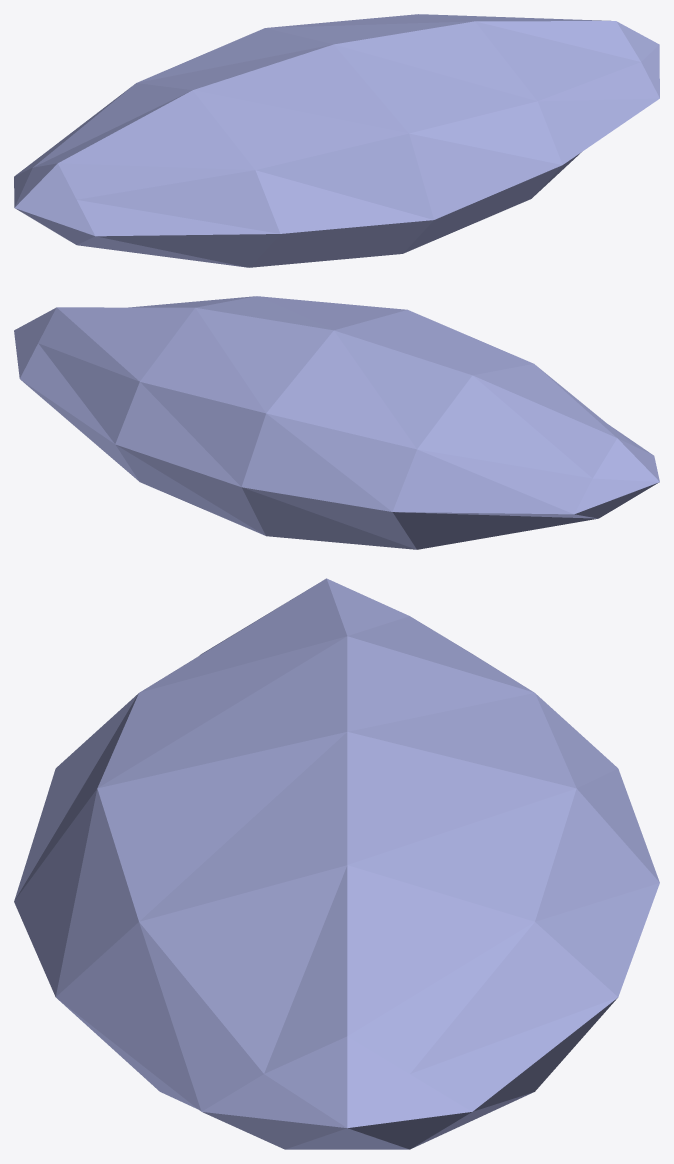
Rendered from model_3370_spotanim.obj.
3 renders of one model, top to bottom at view 1: azimuth 30°, elevation 25°; view 2: azimuth 150°, elevation 25°; view 3: azimuth 270°, elevation 25°, orthographic. The views are drawn at different scales.
Parts seen in each view (by area): view 1: 3370; view 2: 3370; view 3: 3370.
Boxes of the visible parts, x1,y1,x2,y2 form: 3370: [14, 14, 659, 267]; 3370: [14, 296, 659, 549]; 3370: [14, 578, 659, 1149].
Bounding box in the file's own units: 60 × 14 × 31.
